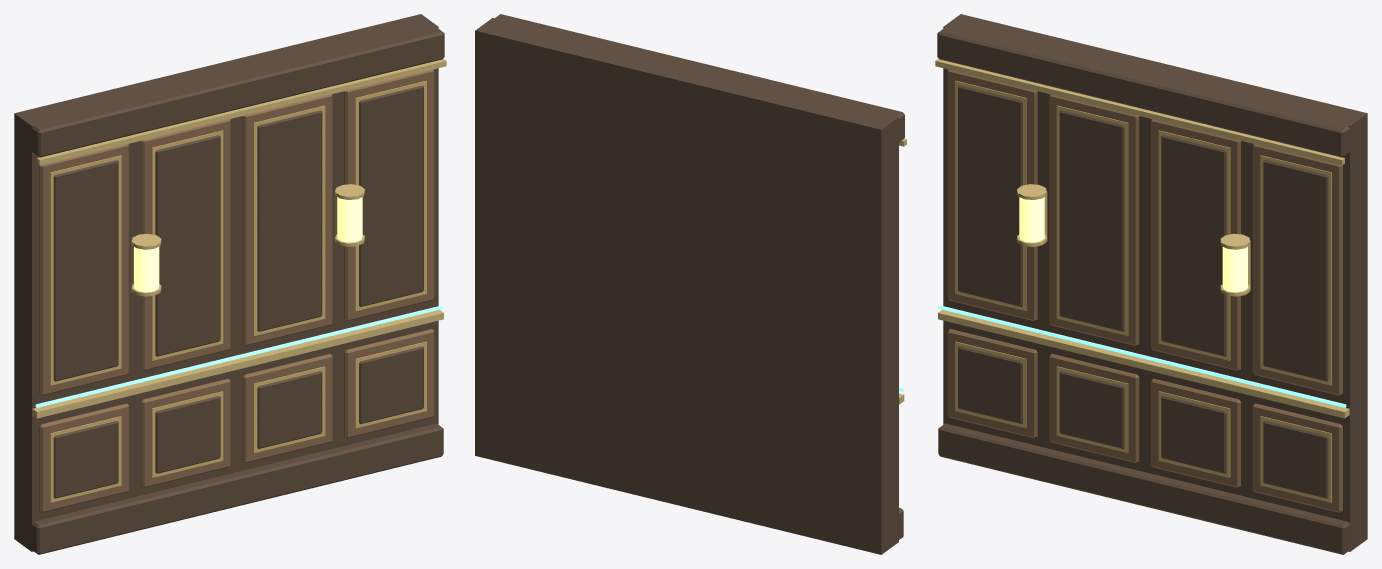
Rendered from wall_ex_sconce.glb.
3 views of the same model, side by side, from view 1: azimuth 30°, elevation 25°; view 2: azimuth 150°, elevation 25°; view 3: azimuth 330°, elevation 25° (orthographic).
Parts seen in each view (by area): view 1: wall_ex_sconce; view 2: wall_ex_sconce; view 3: wall_ex_sconce.
Boxes of the visible parts, box(x1,y1,x2,y2) form: wall_ex_sconce: box(14, 14, 446, 554); wall_ex_sconce: box(475, 14, 906, 554); wall_ex_sconce: box(935, 14, 1367, 554).
Bounding box in the file's own units: 4 × 4 × 0.65.
